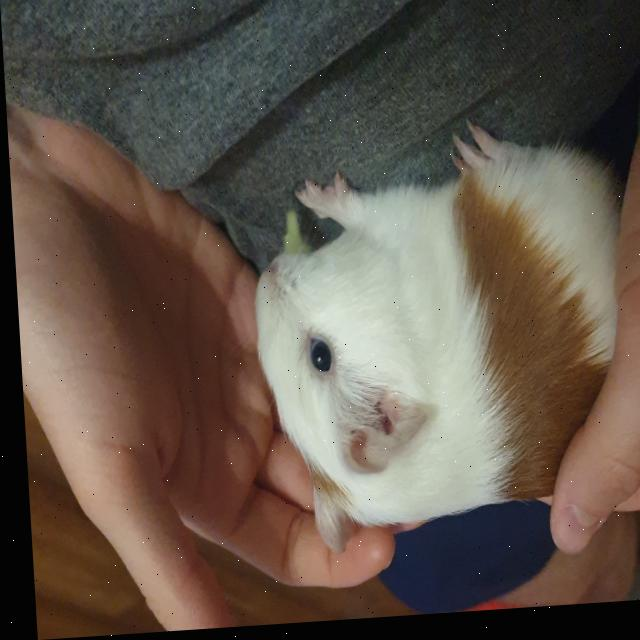guinea pig: (241, 118, 636, 568)
